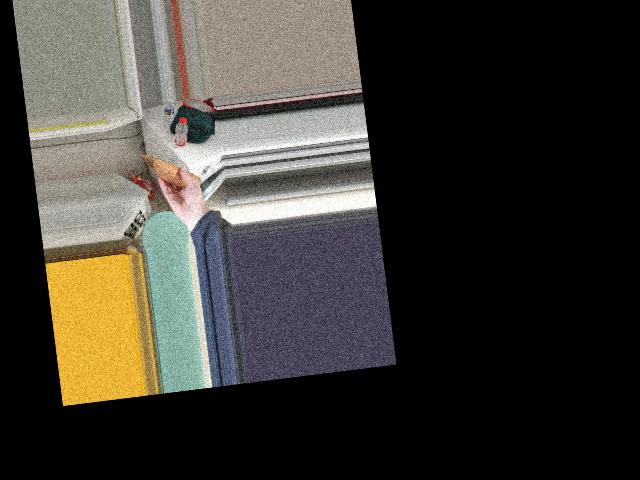sweet_potato: (156, 155, 192, 190)
